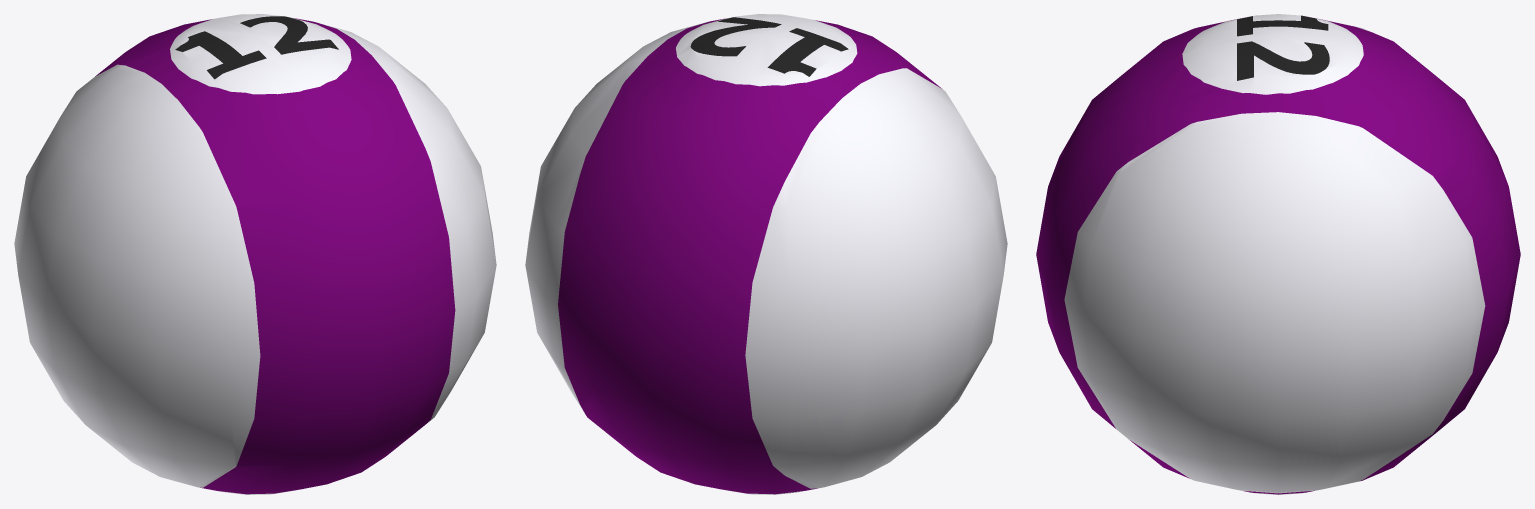
The model's file is 12ball.dae.
3 views of the same model, side by side, from view 1: azimuth 30°, elevation 25°; view 2: azimuth 150°, elevation 25°; view 3: azimuth 270°, elevation 25° (orthographic).
Visible parts, largest first — view 1: Billiard_Ball__12_Purple_Striped (×6); view 2: Billiard_Ball__12_Purple_Striped (×6); view 3: Billiard_Ball__12_Purple_Striped (×5).
Boxes of the visible parts, x1=… form: Billiard_Ball__12_Purple_Striped (×6): x1=14, y1=14, x2=496, y2=494; Billiard_Ball__12_Purple_Striped (×6): x1=525, y1=14, x2=1007, y2=494; Billiard_Ball__12_Purple_Striped (×5): x1=1036, y1=14, x2=1520, y2=494.
Bounding box in the file's own units: 1.58 × 1.58 × 1.58.
